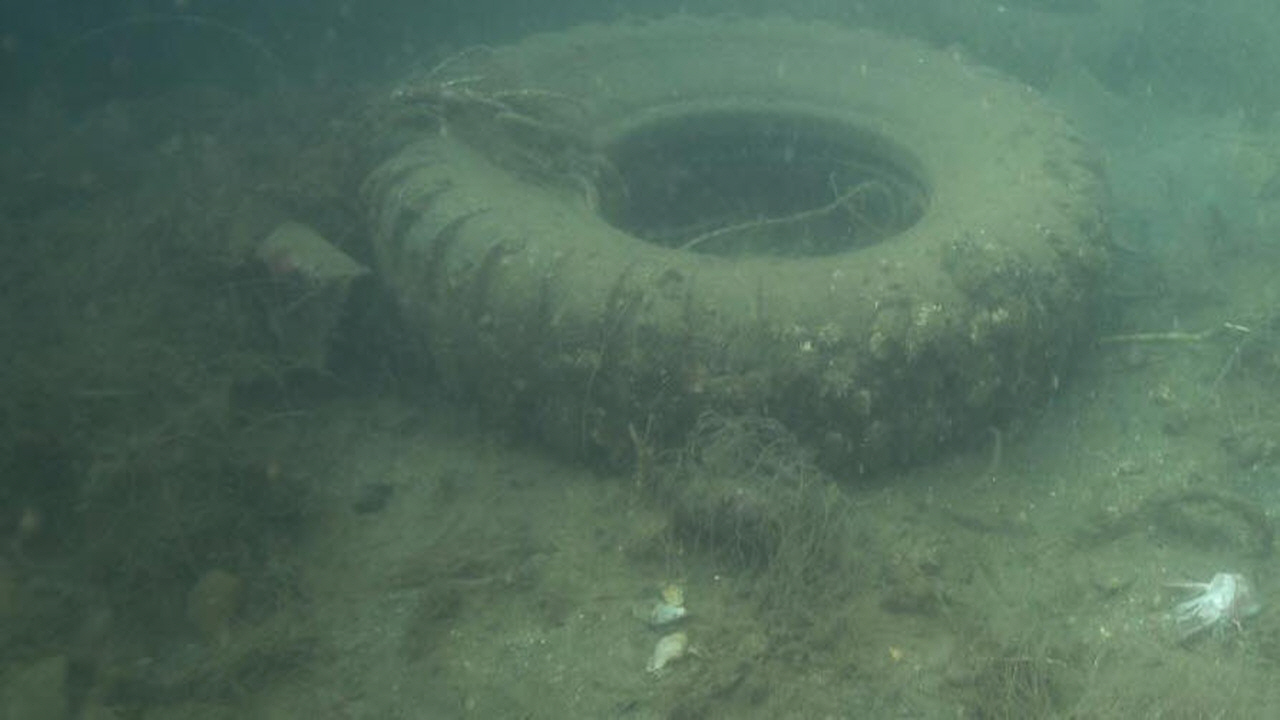tire: (364, 11, 1104, 479)
